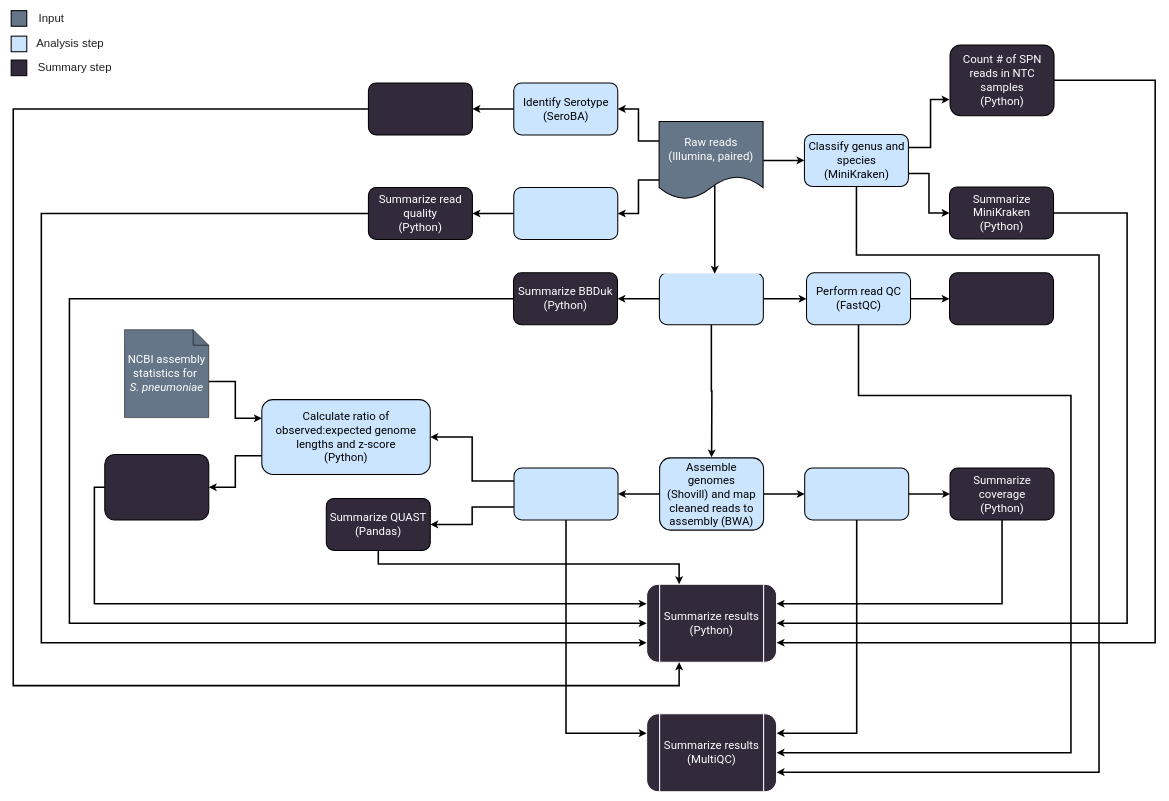
The diagram is 1169 pixels wide and 801 high, and some of its shapes have lost their labels. The centre of each missing label's shape, as x and y in pixels:
"Calculate assembly coverage (Samtools)" goes at (x=856, y=493).
"Calculate average read quality (Bioawk)" goes at (x=565, y=213).
"Perform assembly QC (QUAST)" goes at (x=565, y=493).
"Summarize assembly length results (Python)" goes at (x=156, y=487).
"Summarize FastQC (Bash)" goes at (x=1001, y=298).
"Summarize SeroBA (Python)" goes at (x=420, y=108).
"Trim and clean reads (BBDuk)" goes at (x=711, y=298).
